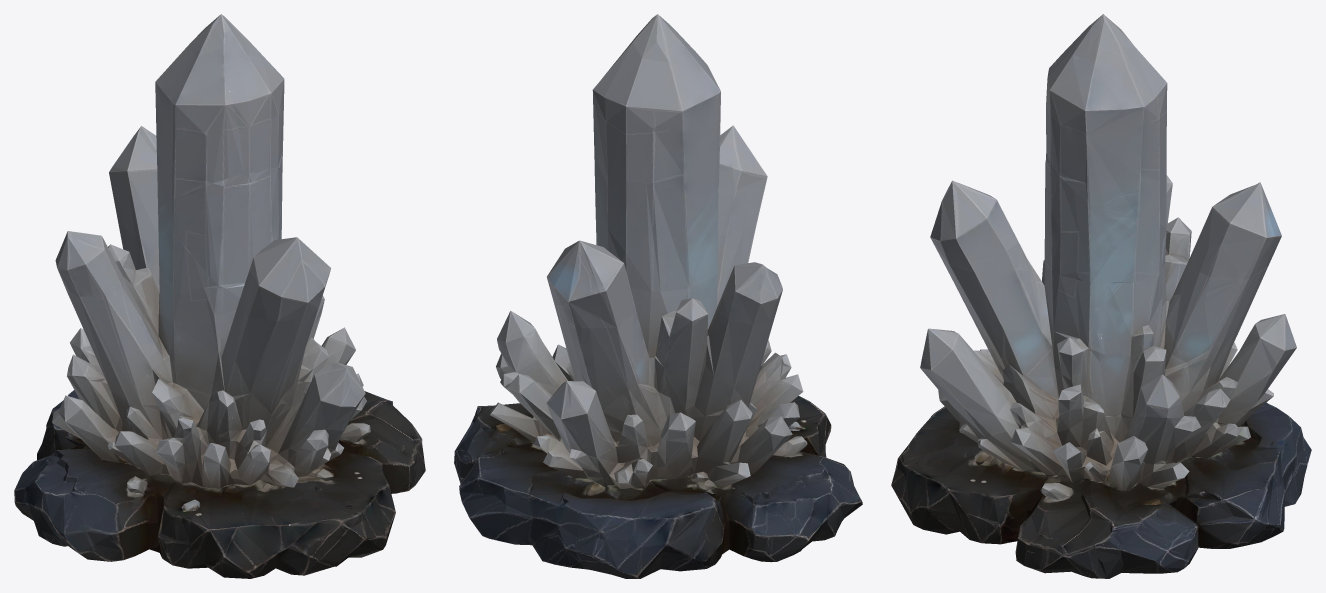
Rendered from 3_crystal.glb.
3 views of the same model, side by side, from view 1: azimuth 30°, elevation 25°; view 2: azimuth 150°, elevation 25°; view 3: azimuth 270°, elevation 25° (orthographic).
Visible parts, largest first — view 1: tripo_node_506b6eea-ee26-4c58-be9b-da8f5515feb3; view 2: tripo_node_506b6eea-ee26-4c58-be9b-da8f5515feb3; view 3: tripo_node_506b6eea-ee26-4c58-be9b-da8f5515feb3.
Boxes of the visible parts, box(x1,y1,x2,y2) form: tripo_node_506b6eea-ee26-4c58-be9b-da8f5515feb3: box(14, 14, 425, 578); tripo_node_506b6eea-ee26-4c58-be9b-da8f5515feb3: box(454, 14, 862, 578); tripo_node_506b6eea-ee26-4c58-be9b-da8f5515feb3: box(891, 14, 1311, 578).
Size of the model in its own units: 0.7841 by 0.9997 by 0.7849.
Materials: 1 (1 with a texture image).
